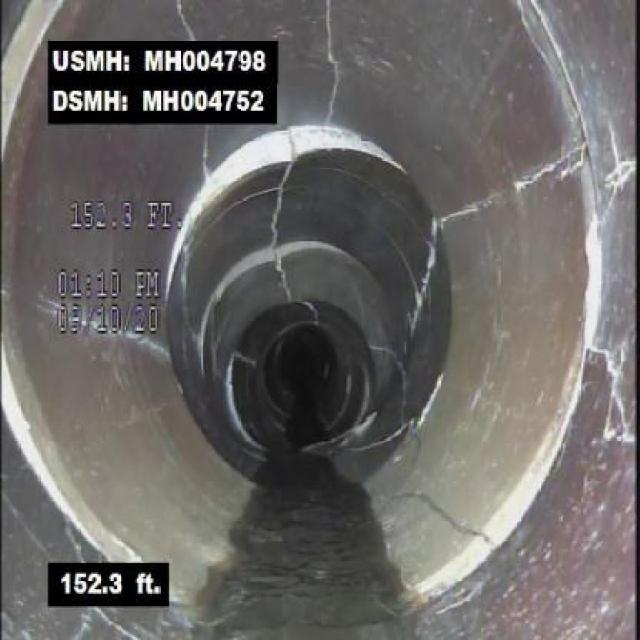Buckling: (191, 125, 426, 257)
Crack: (443, 140, 588, 234), (580, 320, 638, 475), (408, 484, 515, 562), (307, 5, 358, 117)
